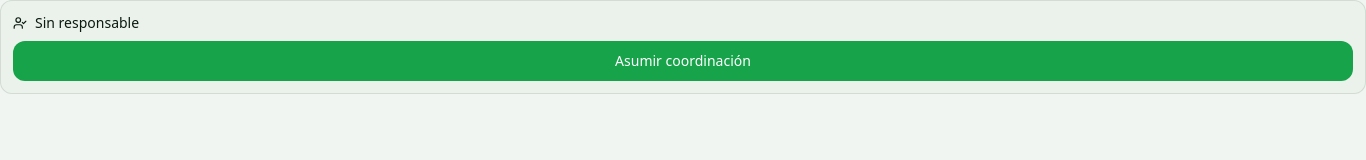
BloqueCoordinacion (HU-39) › un 409 sin responsableVigente válido no inventa un nombre
Click the button "Asumir coordinación" at (683, 61), box [13,41,1353,81]
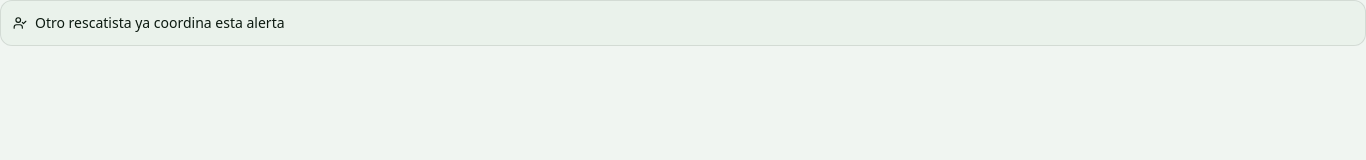
Expected: the text "Otro rescatista ya coordina esta alerta" is shown, [35,13,285,33]
